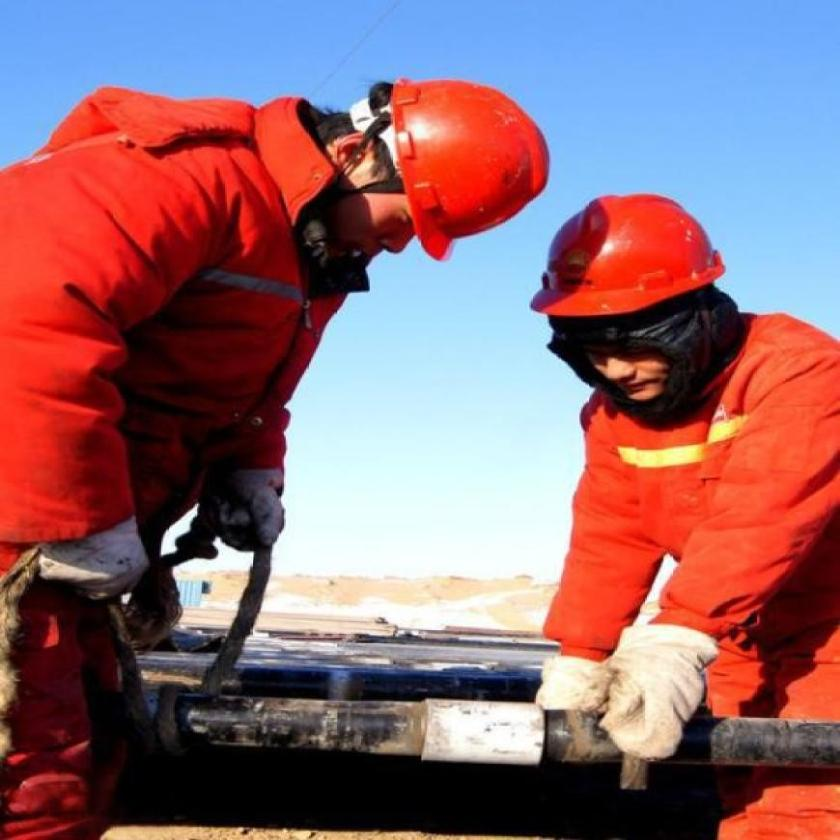Con_casco: (528, 133, 746, 417), (320, 79, 554, 263)
